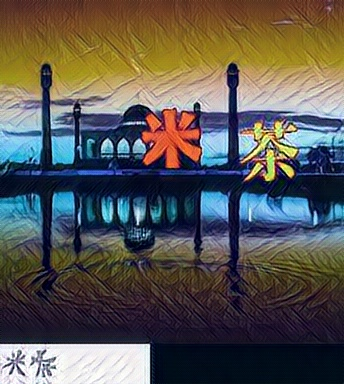B2E8: (238, 119, 304, 183)
C3D7: (136, 106, 202, 170)
